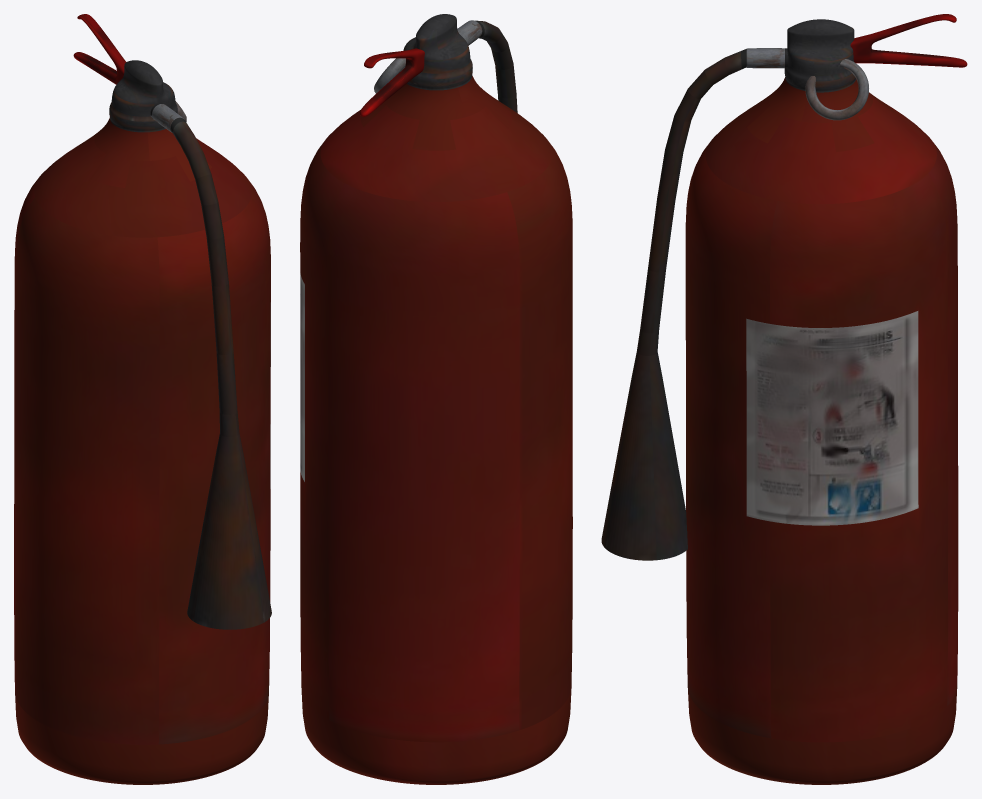
Rendered from extintor_viejo.glb.
3 renders of one model, left to right at view 1: azimuth 30°, elevation 25°; view 2: azimuth 150°, elevation 25°; view 3: azimuth 270°, elevation 25°, orthographic. The views are drawn at different scales.
Visible parts, largest first — view 1: Object_3, Object_5, Object_2, Object_8, Object_6; view 2: Object_3, Object_2, Object_5, Object_8, Object_4; view 3: Object_3, Object_4, Object_5, Object_2, Object_8, Object_7, Object_6.
Boxes of the visible parts, x1,y1,x2,y2 form: Object_3: (14,117,270,784); Object_5: (150,103,271,629); Object_2: (109,60,177,132); Object_8: (73,14,125,84); Object_6: (150,104,184,132); Object_3: (300,76,572,784); Object_2: (403,14,472,90); Object_5: (475,20,517,112); Object_8: (360,48,424,116); Object_4: (300,273,304,481); Object_3: (685,77,958,784); Object_4: (746,311,918,525); Object_5: (601,48,788,560); Object_2: (784,19,856,92); Object_8: (850,14,967,67); Object_7: (805,59,868,120); Object_6: (746,48,784,68).
Size of the model in its own units: 0.7397 by 2.17 by 0.9937.
7 materials, 7 textured.
